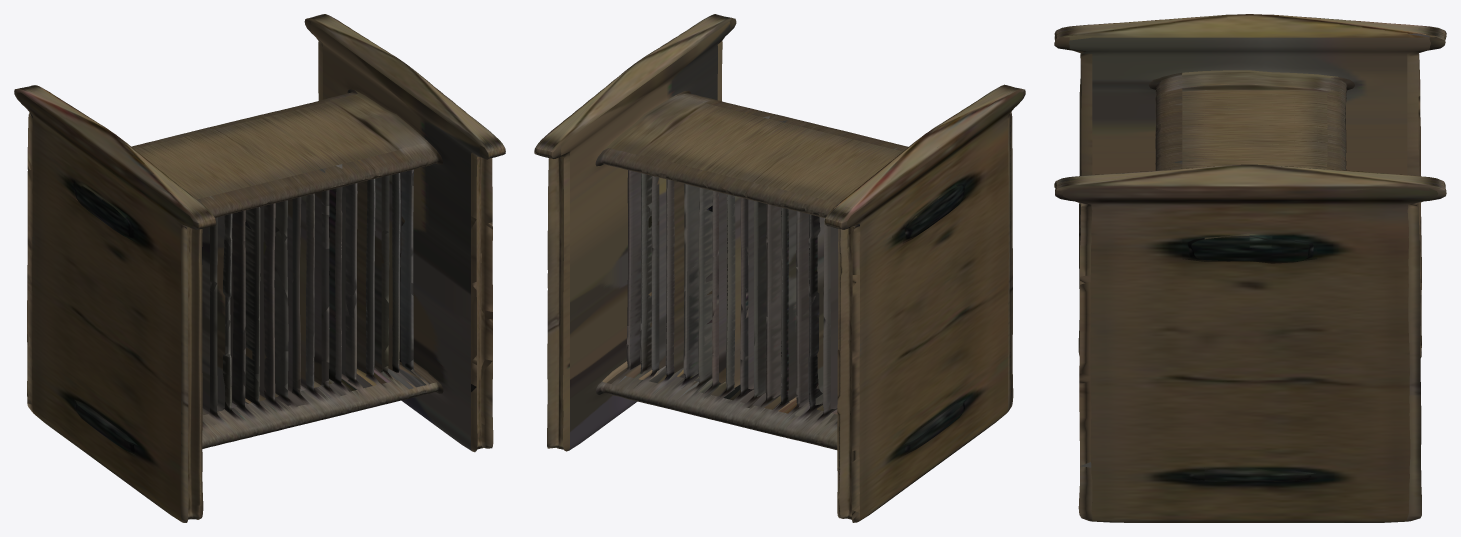
Rendered from street-fence.glb.
3 views of the same model, side by side, from view 1: azimuth 30°, elevation 25°; view 2: azimuth 150°, elevation 25°; view 3: azimuth 270°, elevation 25° (orthographic). The views are drawn at different scales.
Parts seen in each view (by area): view 1: tmp8s4jbz56.ply; view 2: tmp8s4jbz56.ply; view 3: tmp8s4jbz56.ply.
Part boxes in pixels (x1,y1,x2,y2): tmp8s4jbz56.ply: (14, 14, 505, 522); tmp8s4jbz56.ply: (534, 14, 1025, 522); tmp8s4jbz56.ply: (1054, 14, 1446, 522).
Bounding box in the file's own units: 1 × 1 × 1.
1 material, 1 textured.
